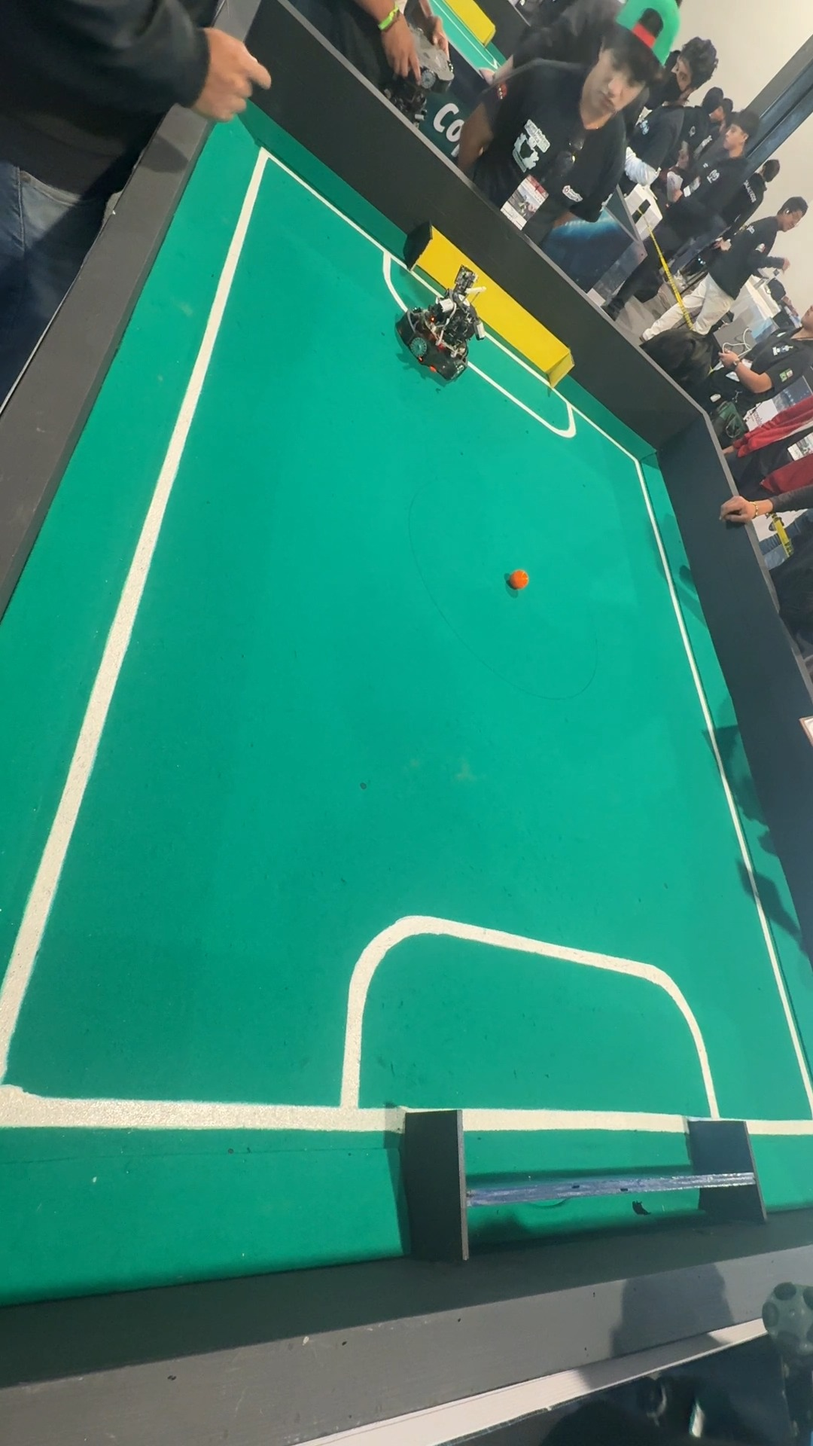Robot: (389, 255, 487, 393)
pelota: (492, 557, 539, 607)
